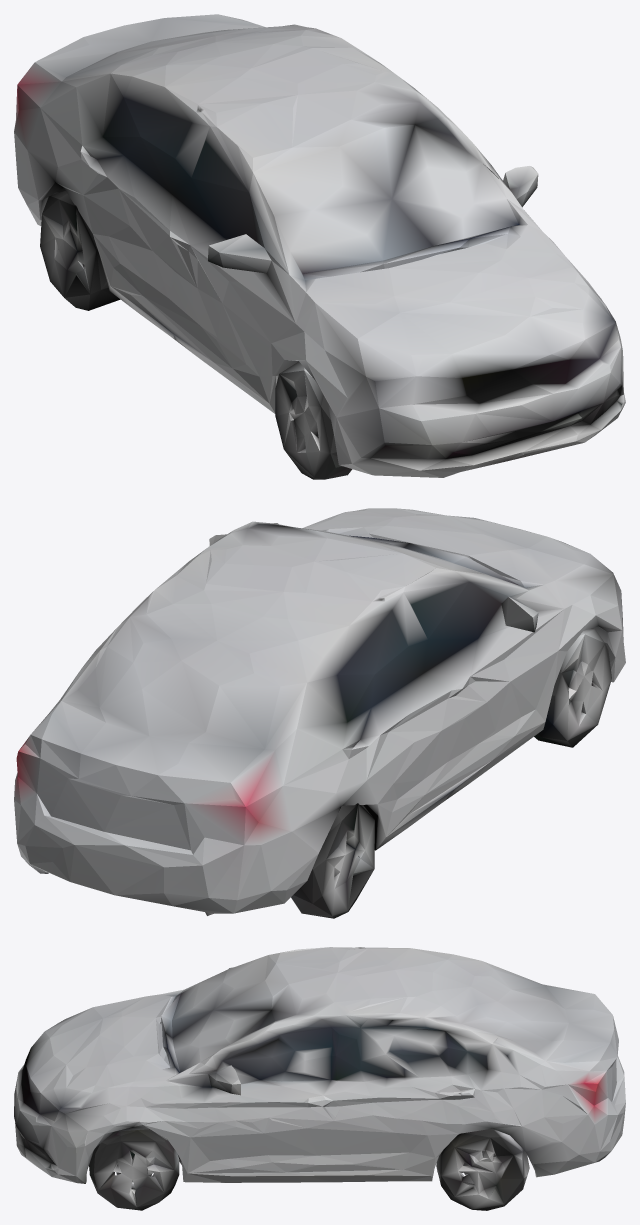
Rendered from car-sedan.glb.
3 views of the same model, one above another, from view 1: azimuth 30°, elevation 25°; view 2: azimuth 150°, elevation 25°; view 3: azimuth 270°, elevation 25° (orthographic). The views are drawn at different scales.
Visible parts, largest first — view 1: geometry_0; view 2: geometry_0; view 3: geometry_0.
Part boxes in pixels (left/top/right/bottom): geometry_0: left=14, top=14, right=625, bottom=479; geometry_0: left=14, top=508, right=625, bottom=918; geometry_0: left=14, top=947, right=625, bottom=1210.
Size of the model in its own units: 0.9088 by 0.6744 by 1.99.
